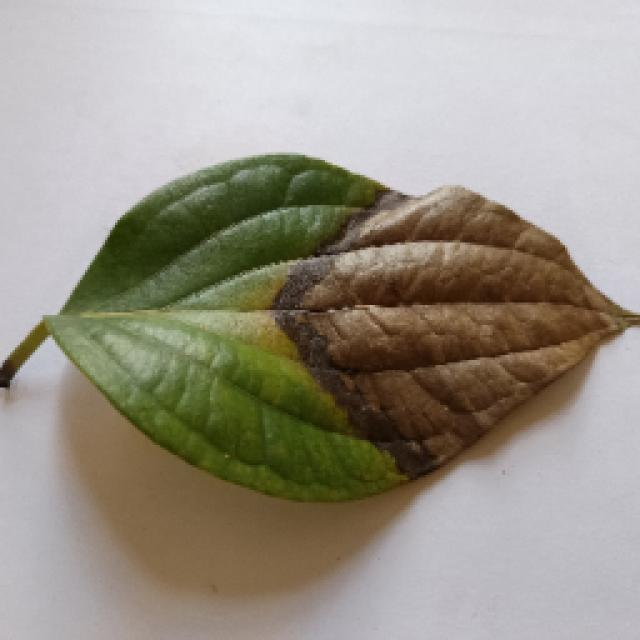footrot: (0, 148, 620, 510)
